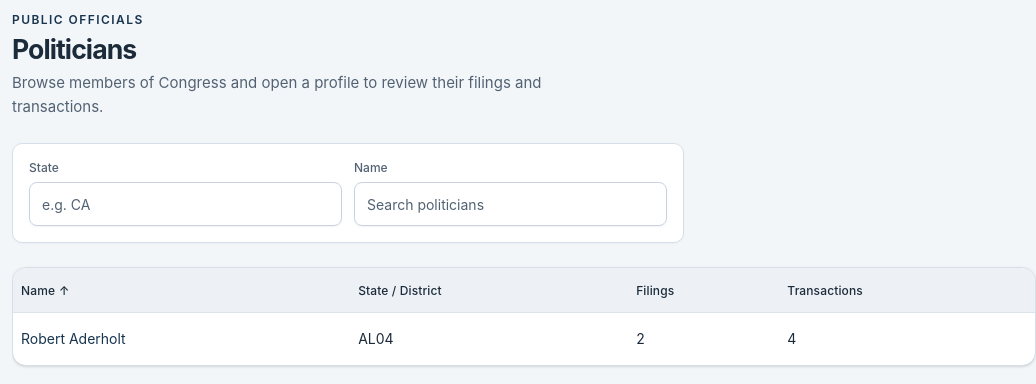
Test: PoliticiansPage › fetches a name match outside the unfiltered page
Expected: the link "Robert Aderholt" is shown, [21,330,126,347]
Expected: the text "Nancy Pelosi" is not shown
Step 1. Type "Nancy" into the field with placeholder "Search politicians" → (510, 204), box [354,182,667,226]
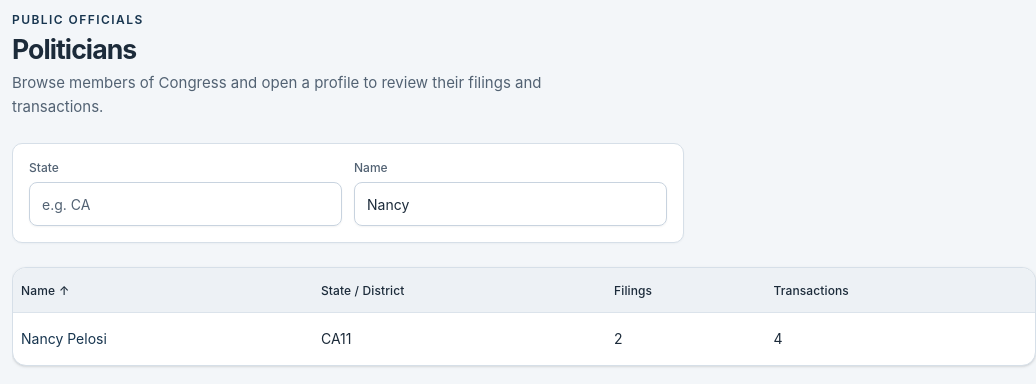
Expected: the link "Nancy Pelosi" is shown, [21,330,107,347]
